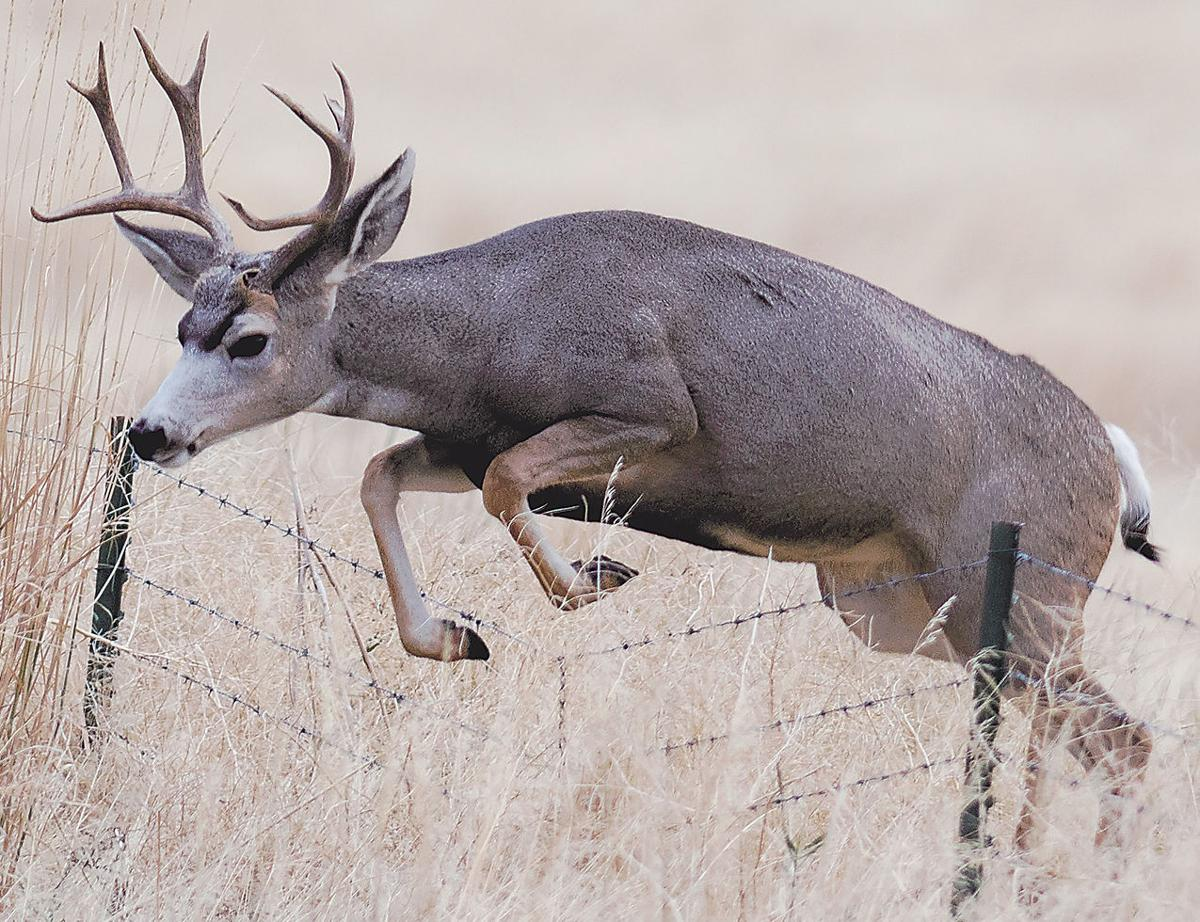Deer: (28, 32, 1200, 902)
